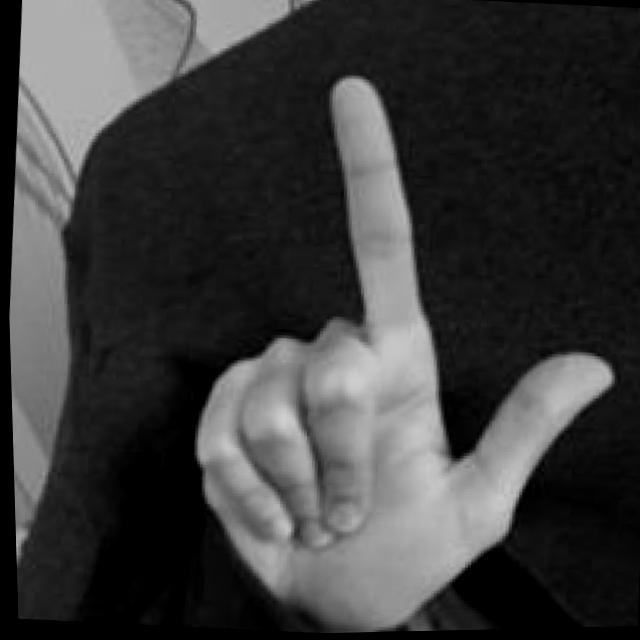L: (164, 49, 640, 636)
